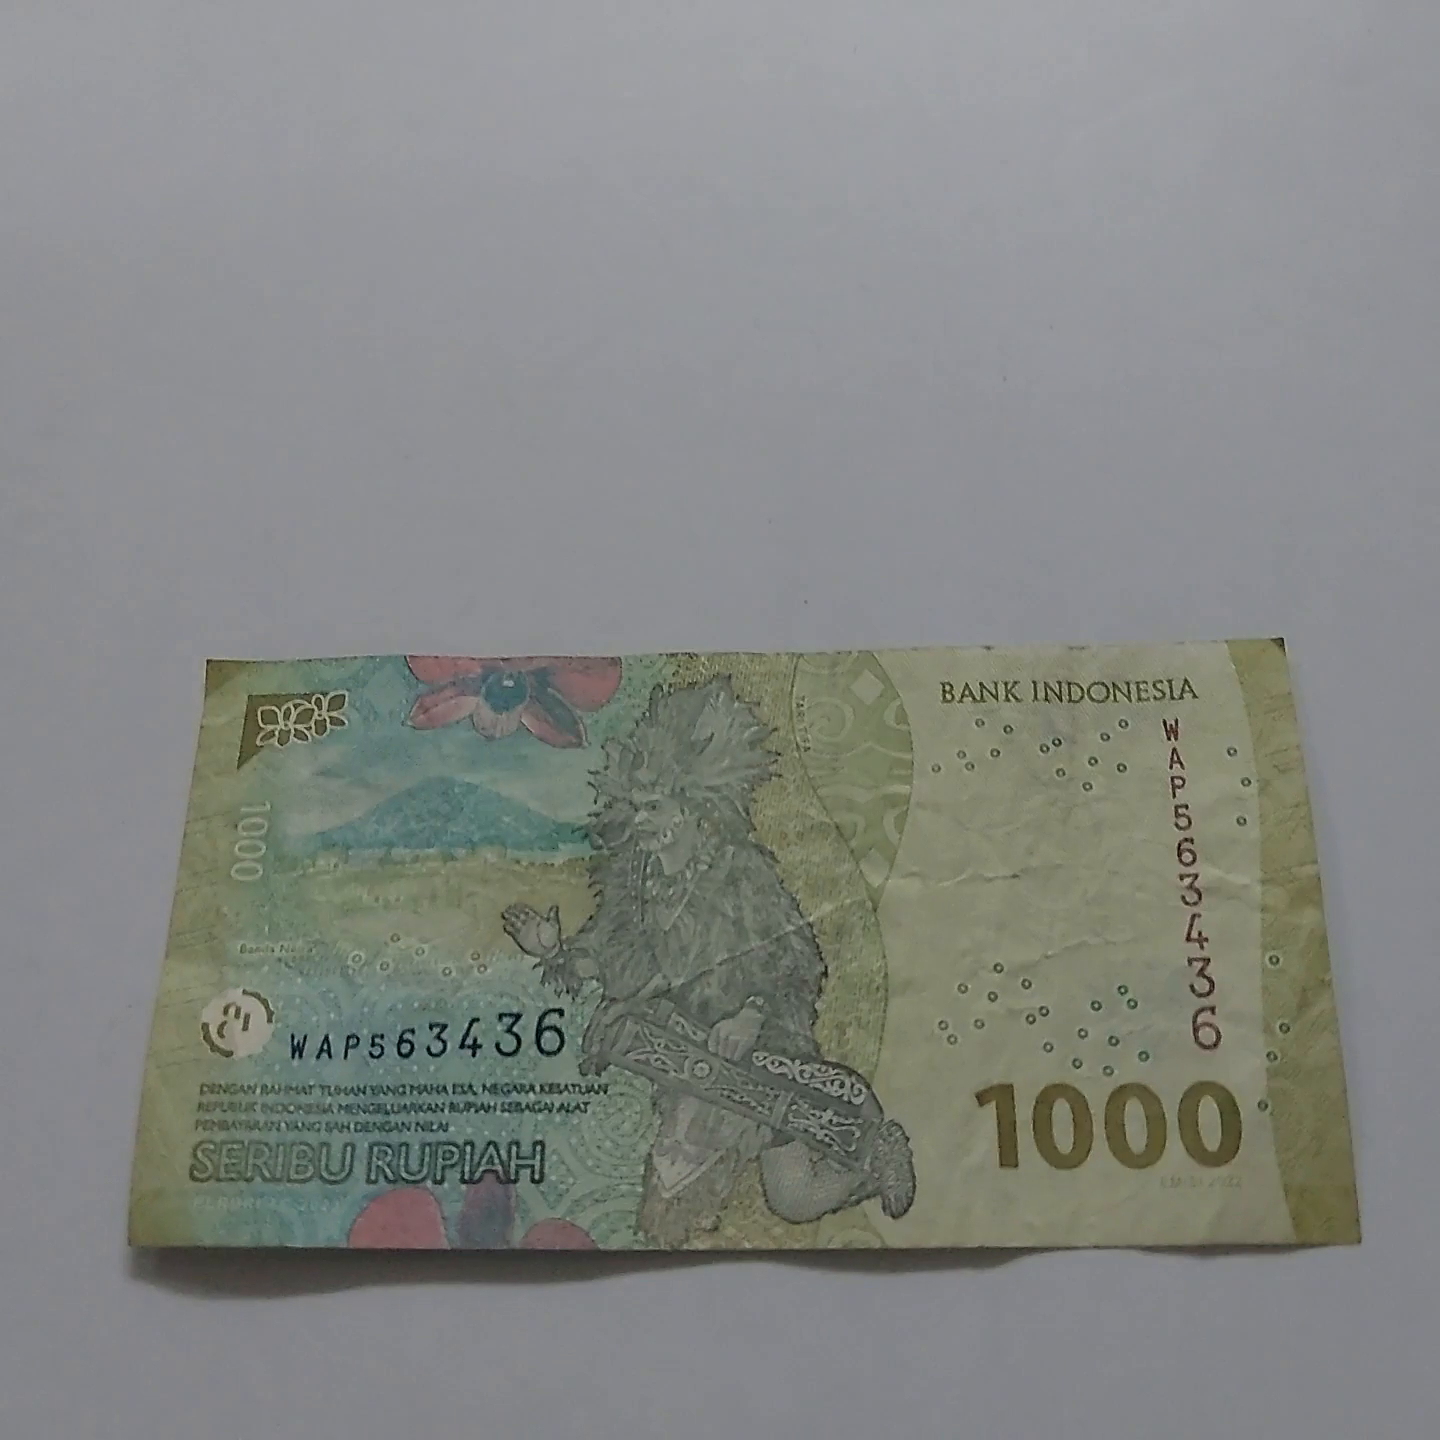1k: (141, 641, 1367, 1254)
